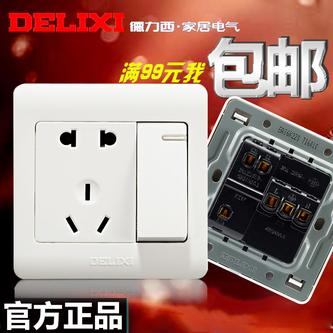switch: (133, 117, 192, 246)
